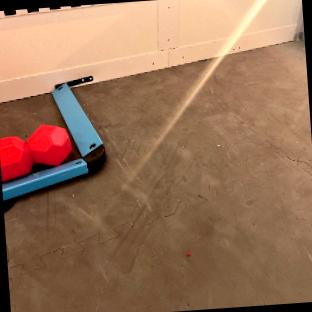Parking - Part: (0, 82, 105, 199)
V5_RED: (0, 124, 71, 182)
